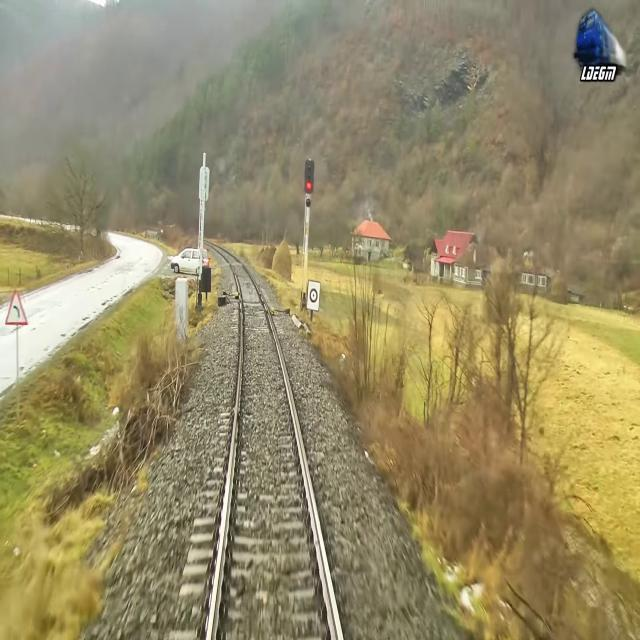rail-track: (210, 243, 338, 639)
